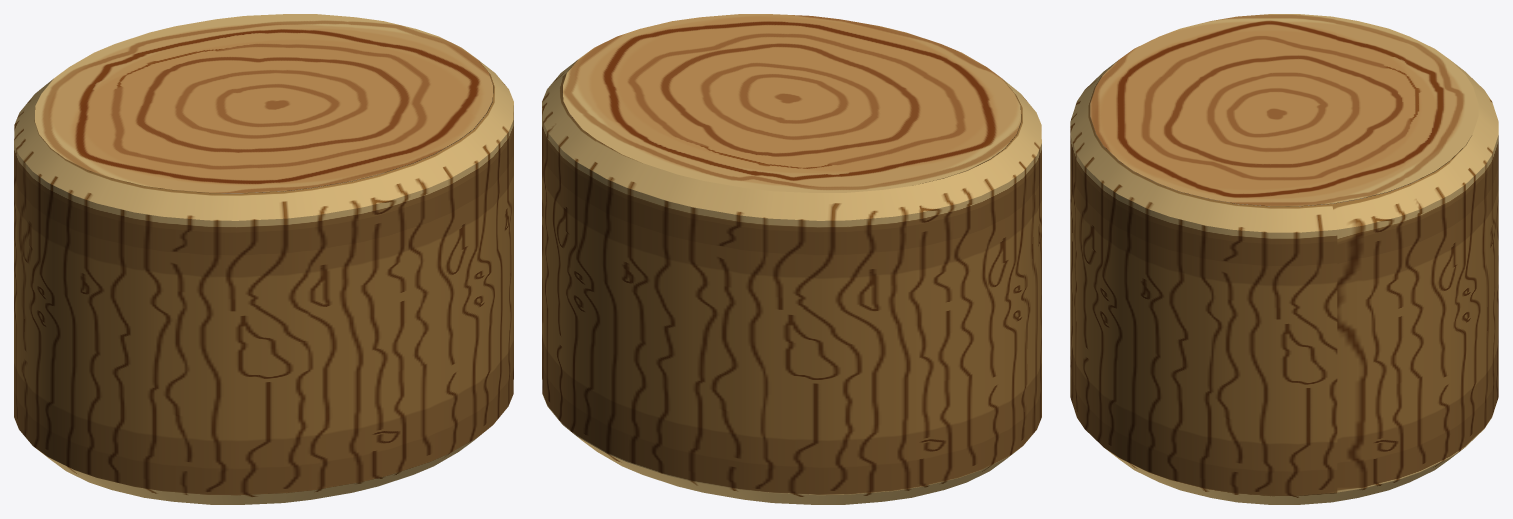
The model's file is logStump-Final.fbx.
3 renders of one model, left to right at view 1: azimuth 30°, elevation 25°; view 2: azimuth 150°, elevation 25°; view 3: azimuth 270°, elevation 25°, orthographic. The views are drawn at different scales.
Parts seen in each view (by area): view 1: pCylinder6; view 2: pCylinder6; view 3: pCylinder6.
Boxes of the visible parts, left/top/right/bottom form: pCylinder6: left=14, top=14, right=513, bottom=504; pCylinder6: left=542, top=14, right=1041, bottom=504; pCylinder6: left=1070, top=14, right=1498, bottom=504.
Bounding box in the file's own units: 0.7055 × 0.4694 × 0.6104.
